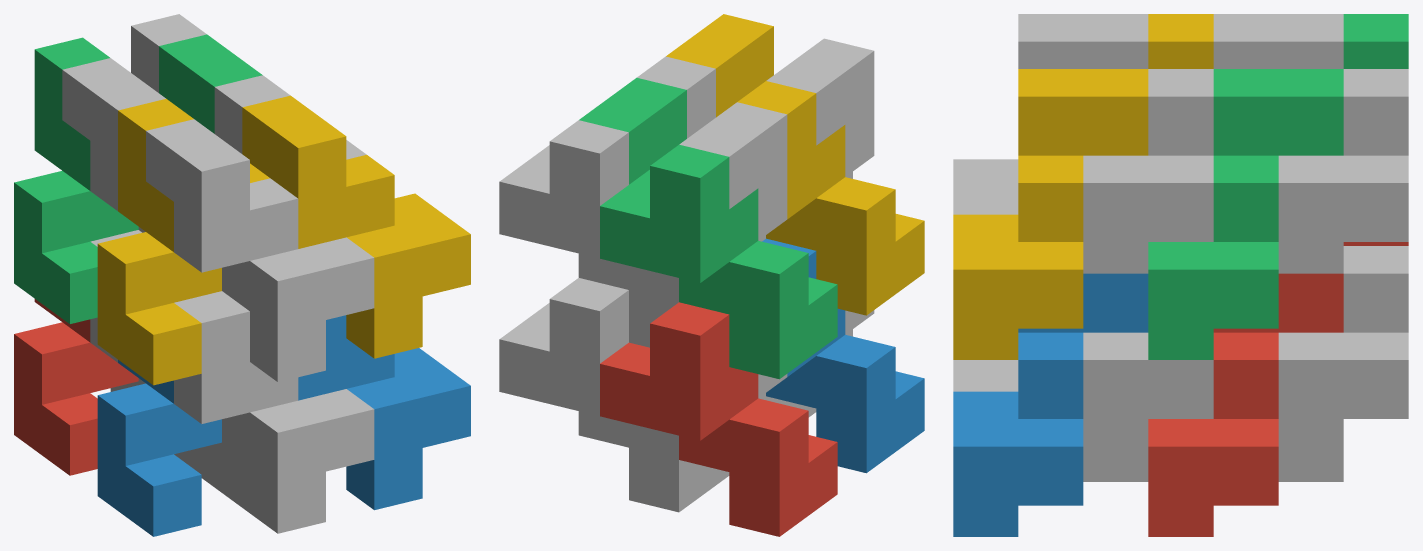
The model's file is tiling.obj.
3 renders of one model, left to right at view 1: azimuth 30°, elevation 25°; view 2: azimuth 150°, elevation 25°; view 3: azimuth 270°, elevation 25°, orthographic. The views are drawn at different scales.
Parts seen in each view (by area): view 1: copy_2_domain_4, copy_2_domain_8, copy_2_domain_2, copy_1_domain_4, copy_1_domain_3, copy_2_domain_6, copy_1_domain_2, copy_1_domain_1, copy_2_domain_3, copy_2_domain_7, copy_1_domain_8, copy_1_domain_7 (+2 smaller); view 2: copy_1_domain_3, copy_1_domain_1, copy_1_domain_4, copy_1_domain_5, copy_1_domain_7, copy_1_domain_2, copy_2_domain_4, copy_2_domain_3, copy_2_domain_7, copy_2_domain_8, copy_1_domain_8; view 3: copy_2_domain_8, copy_2_domain_7, copy_2_domain_6, copy_2_domain_5, copy_1_domain_5, copy_1_domain_8, copy_1_domain_7, copy_1_domain_6, copy_2_domain_4, copy_2_domain_3, copy_1_domain_3, copy_1_domain_4 (+1 smaller).
Boxes of the visible parts, x1,y1,x2,y2 form: copy_2_domain_4: [146, 119, 374, 382]; copy_2_domain_8: [242, 95, 470, 358]; copy_2_domain_2: [174, 291, 374, 533]; copy_1_domain_4: [97, 98, 269, 385]; copy_1_domain_3: [14, 37, 138, 323]; copy_2_domain_6: [298, 315, 470, 510]; copy_1_domain_2: [97, 360, 221, 536]; copy_1_domain_1: [14, 299, 138, 475]; copy_2_domain_3: [62, 58, 165, 232]; copy_2_domain_7: [159, 34, 262, 133]; copy_1_domain_8: [214, 75, 366, 159]; copy_1_domain_7: [131, 14, 206, 92]; copy_1_domain_3: [600, 144, 837, 379]; copy_1_domain_1: [600, 302, 837, 536]; copy_1_domain_4: [737, 81, 924, 315]; copy_1_domain_5: [499, 278, 729, 512]; copy_1_domain_7: [499, 120, 678, 347]; copy_1_domain_2: [762, 238, 924, 473]; copy_2_domain_4: [766, 38, 874, 178]; copy_2_domain_3: [679, 102, 787, 241]; copy_2_domain_7: [579, 77, 686, 184]; copy_2_domain_8: [666, 14, 773, 117]; copy_1_domain_8: [637, 56, 715, 138]; copy_2_domain_8: [953, 69, 1148, 359]; copy_2_domain_7: [1148, 69, 1343, 359]; copy_2_domain_6: [953, 273, 1148, 536]; copy_2_domain_5: [1148, 273, 1343, 536]; copy_1_domain_5: [1278, 246, 1408, 481]; copy_1_domain_8: [1083, 69, 1213, 273]; copy_1_domain_7: [1278, 69, 1408, 273]; copy_1_domain_6: [1083, 332, 1213, 481]; copy_2_domain_4: [953, 14, 1148, 214]; copy_2_domain_3: [1213, 14, 1343, 68]; copy_1_domain_3: [1343, 14, 1408, 68]; copy_1_domain_4: [1148, 14, 1213, 68].
Bounding box in the file's own units: 6 × 7 × 7.
